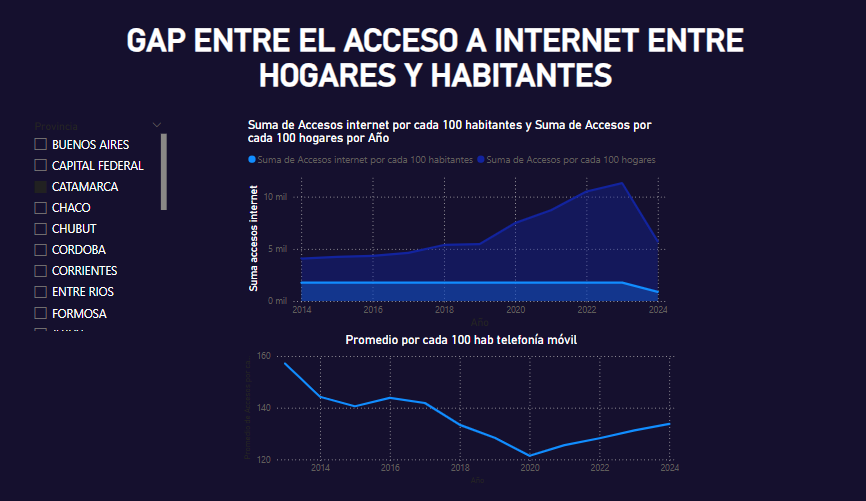

What the dashboard file says about the page in this screenshot:
{"tool":"powerbi","page":{"name":"Mercado movil maduro","canvas":[1280,720],"ordinal":4},"visuals":[{"type":"textbox","box":[190.1,36,898.6,118.1],"z":0},{"type":"textbox","box":[670.2,320.8,162.9,75.6],"z":1000},{"type":"areaChart","fields":{"Y":["Sum(Hogar.Accesos internet por cada 100 habitantes)","Sum(Hogar.Accesos por cada 100 hogares)"],"Category":["Hogar.Fecha.Variación.Jerarquía de fechas.Año","Hogar.Fecha.Variación.Jerarquía de fechas.Trimestre","Hogar.Fecha.Variación.Jerarquía de fechas.Mes","Hogar.Fecha.Variación.Jerarquía de fechas.Día"]},"box":[375.8,171.4,587.5,296.6],"z":1001},{"type":"slicer","fields":{"Values":["Hogar.Provincia"]},"box":[74.9,171.4,200.2,299.5],"z":1002},{"type":"lineChart","title":"Promedio por cada 100 hab telefonía móvil","fields":{"Y":["Avg(Movil.Accesos por cada 100 hab telefonia móvil)"],"Category":["Movil.fecha.Variación.Jerarquía de fechas.Año","Movil.fecha.Variación.Jerarquía de fechas.Trimestre","Movil.fecha.Variación.Jerarquía de fechas.Mes","Movil.fecha.Variación.Jerarquía de fechas.Día"]},"box":[370.1,468,609.1,214.6],"z":1003}]}

Visuals, with their boxes in screenshot pixels (x1, y1, x2, y2), scaled from the page's 1280x720 canvas onto the 866x501 screenshot:
textbox: select_region(129, 25, 737, 107)
textbox: select_region(453, 223, 564, 276)
areaChart - Sum(Hogar.Accesos internet por cada 100 habitantes) x Sum(Hogar.Accesos por cada 100 hogares): select_region(254, 119, 652, 326)
slicer - Hogar.Provincia: select_region(51, 119, 186, 328)
"Promedio por cada 100 hab telefonía móvil" lineChart: select_region(250, 326, 662, 475)
